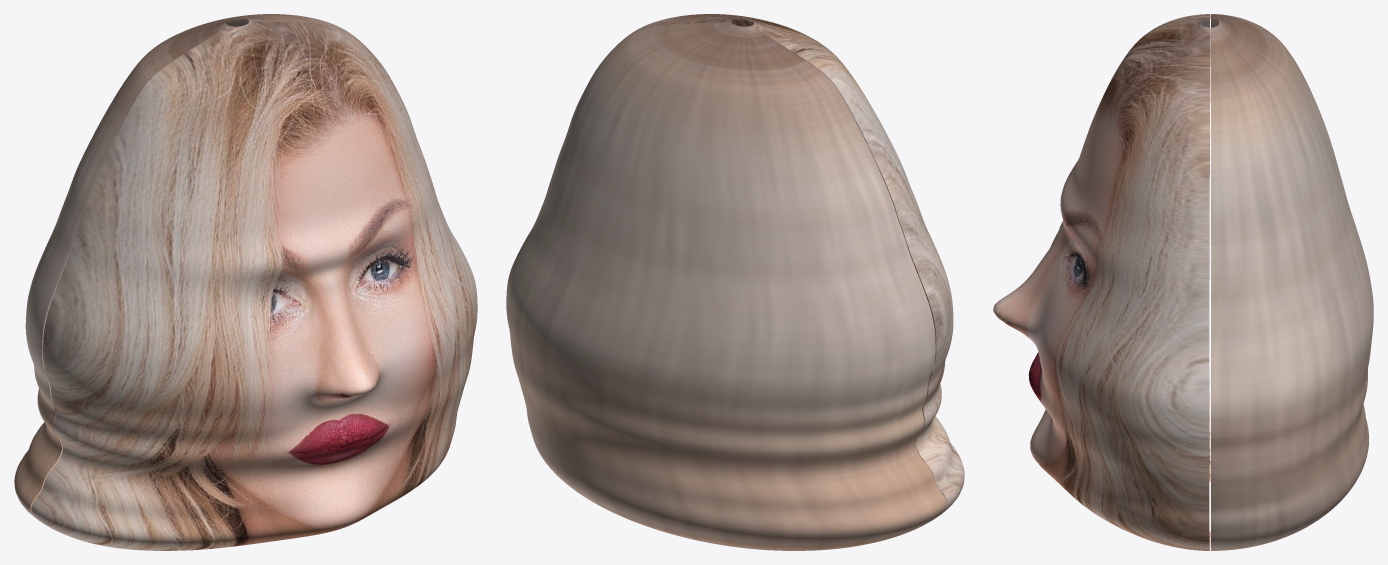
3 views of the same model, side by side, from view 1: azimuth 30°, elevation 25°; view 2: azimuth 150°, elevation 25°; view 3: azimuth 270°, elevation 25° (orthographic). The views are drawn at different scales.
Parts seen in each view (by area): view 1: head; view 2: head; view 3: head.
Part boxes in pixels (x1=…): head: x1=14, y1=14, x2=477, y2=550; head: x1=506, y1=14, x2=964, y2=550; head: x1=993, y1=14, x2=1373, y2=550.
Size of the model in its own units: 1.62 by 1.8 by 1.29.
Materials: 1 (1 with a texture image).
